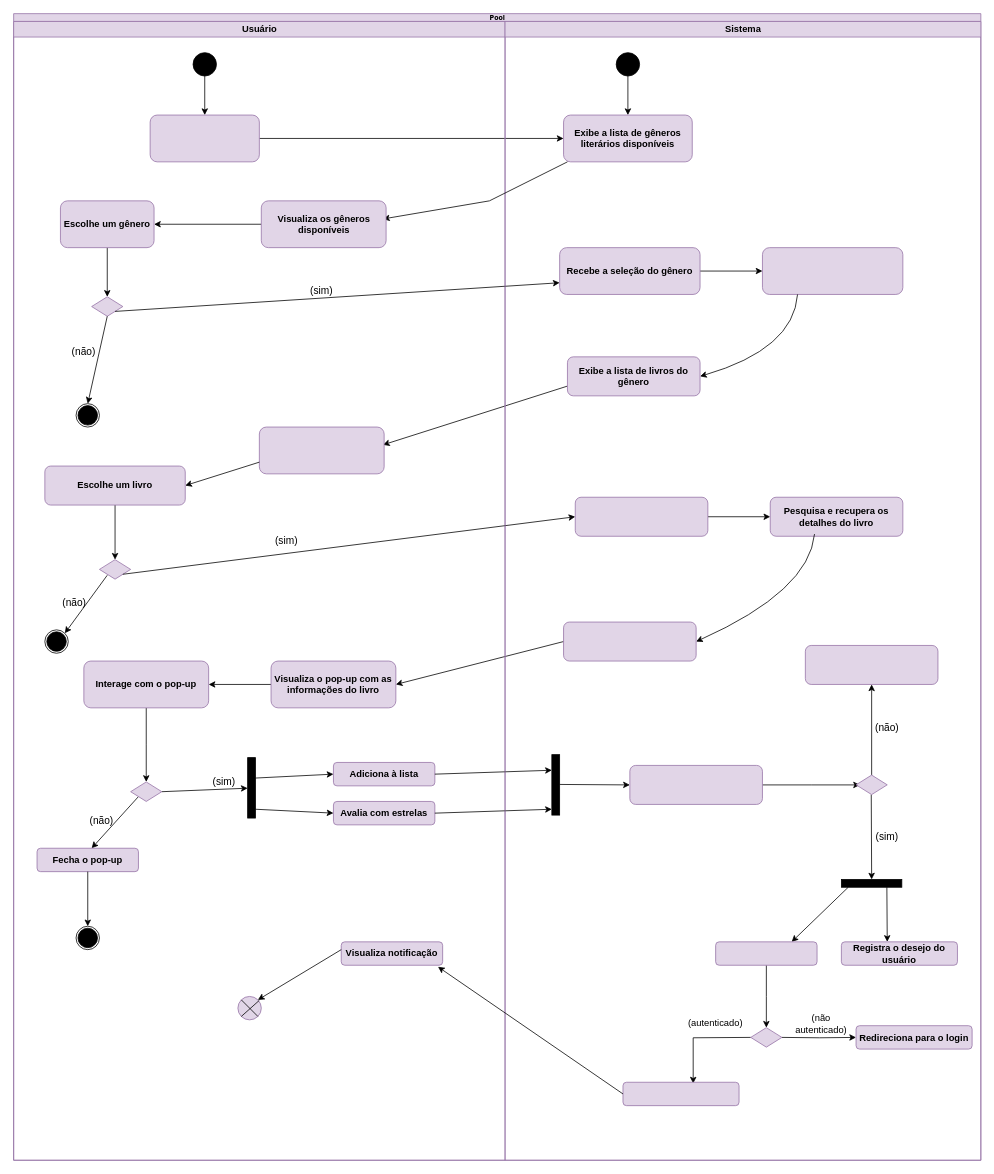
Some shapes in this 994 by 1174 pixel diagram are drawn without their labels. The centre of each missing label's shape, as x and y in pixels:
Acessa a página de gêneros literários: the point at 204,138
Aguarda próxima ação: the point at 871,664
Exibe o pop-up com as informações do livro: the point at 629,641
Gera notificação: the point at 680,1093
Pesquisa e recupera os livros do gênero: the point at 832,270
Recebe a seleção do livro: the point at 641,516
Recebe ação do usuário: the point at 695,784
Verifica autenticação: the point at 766,953
Visualiza a lista de livros do gênero selecionado: the point at 321,450
